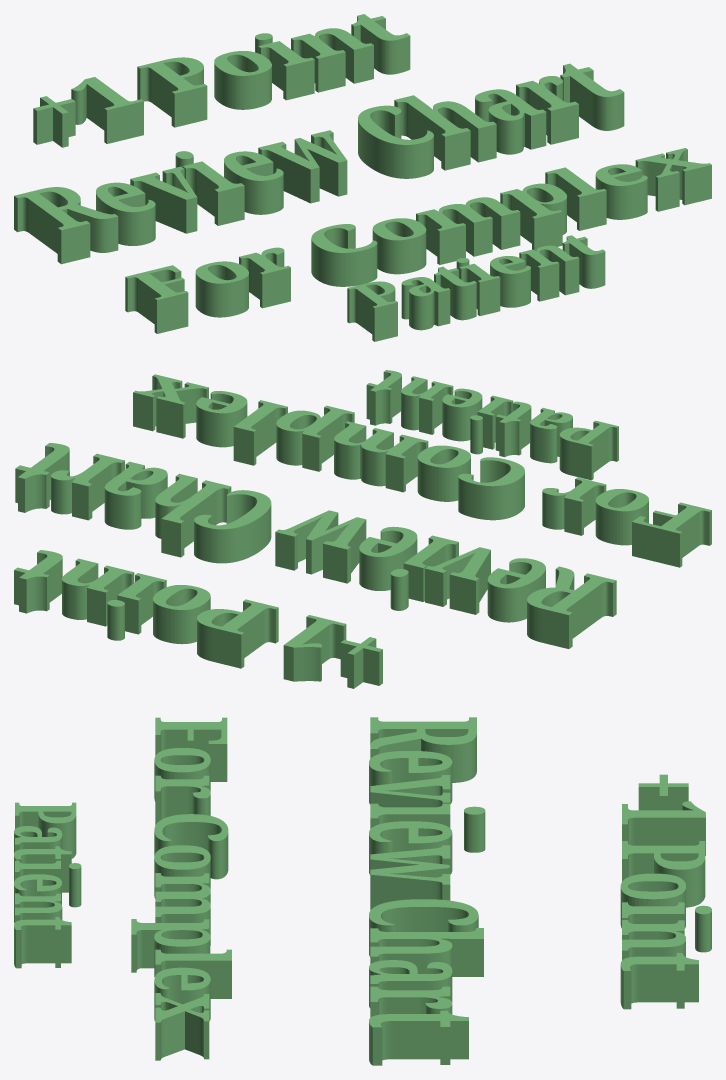
Rendered from poscanc.gltf.
3 views of the same model, one above another, from view 1: azimuth 30°, elevation 25°; view 2: azimuth 150°, elevation 25°; view 3: azimuth 270°, elevation 25° (orthographic). The views are drawn at different scales.
Visible parts, largest first — view 1: Mesh_Mesh_head_geo001_lambert2SG001; view 2: Mesh_Mesh_head_geo001_lambert2SG001; view 3: Mesh_Mesh_head_geo001_lambert2SG001.
Part boxes in pixels (box(x1,y1,x2,y2)): Mesh_Mesh_head_geo001_lambert2SG001: box(14, 14, 711, 341); Mesh_Mesh_head_geo001_lambert2SG001: box(14, 370, 711, 688); Mesh_Mesh_head_geo001_lambert2SG001: box(14, 717, 711, 1065).
Bounding box in the file's own units: 174 × 10 × 166.
